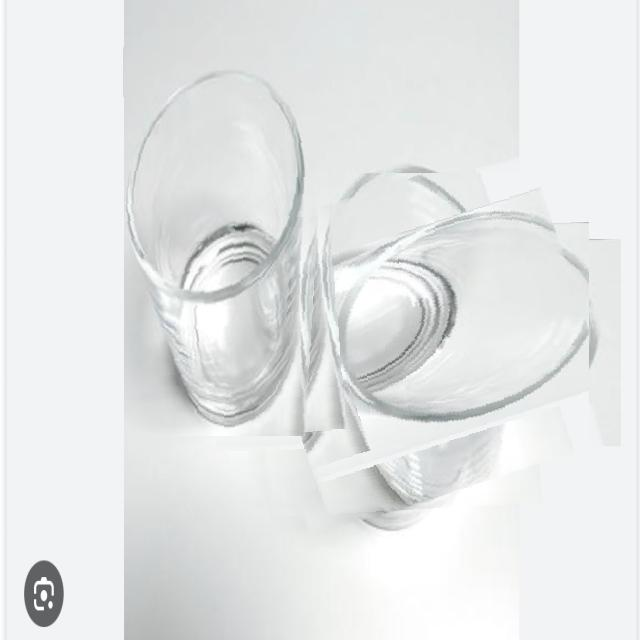recyclable: (247, 173, 589, 517), (124, 43, 328, 436)
